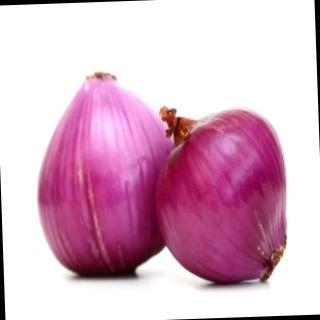Bawang Merah: (32, 67, 185, 282), (151, 102, 292, 290)
